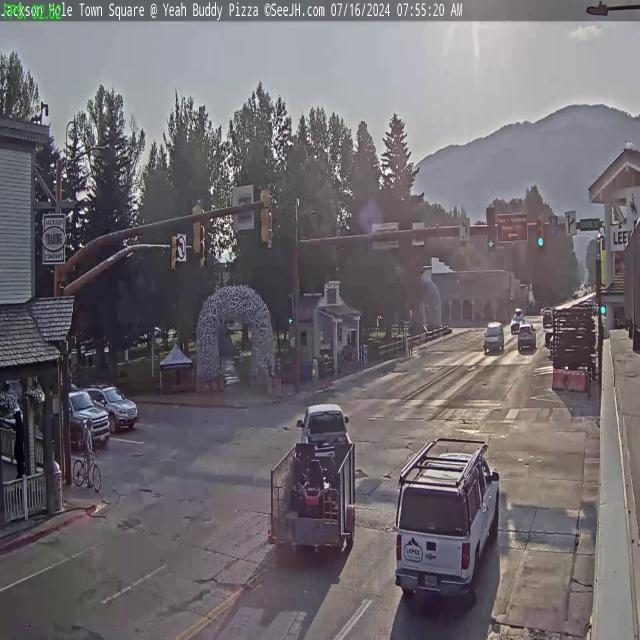bike: (74, 452, 102, 490)
person: (83, 413, 94, 484), (272, 350, 280, 403), (268, 358, 275, 400)
pickup: (296, 406, 354, 466)
suv: (392, 434, 503, 611), (52, 392, 108, 450), (85, 384, 138, 432), (483, 320, 503, 353), (518, 323, 536, 351)
traffic light: (260, 184, 273, 246), (190, 199, 203, 257), (486, 206, 496, 250), (170, 235, 179, 272), (536, 215, 545, 248)
